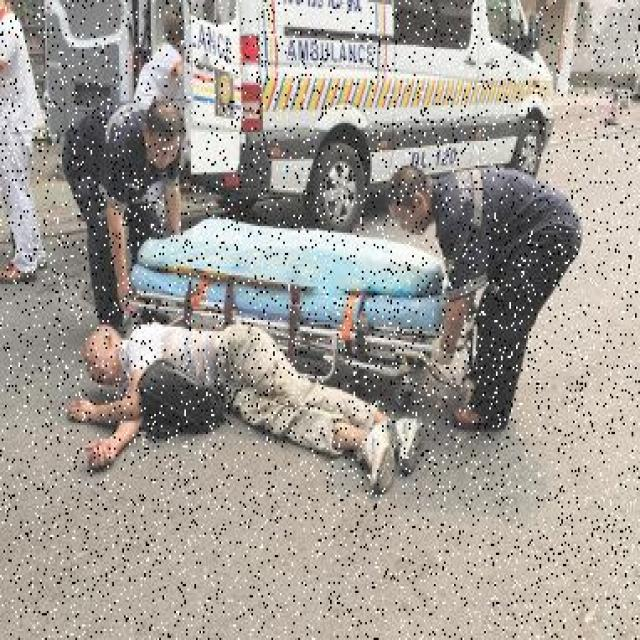fall: (59, 318, 418, 488)
